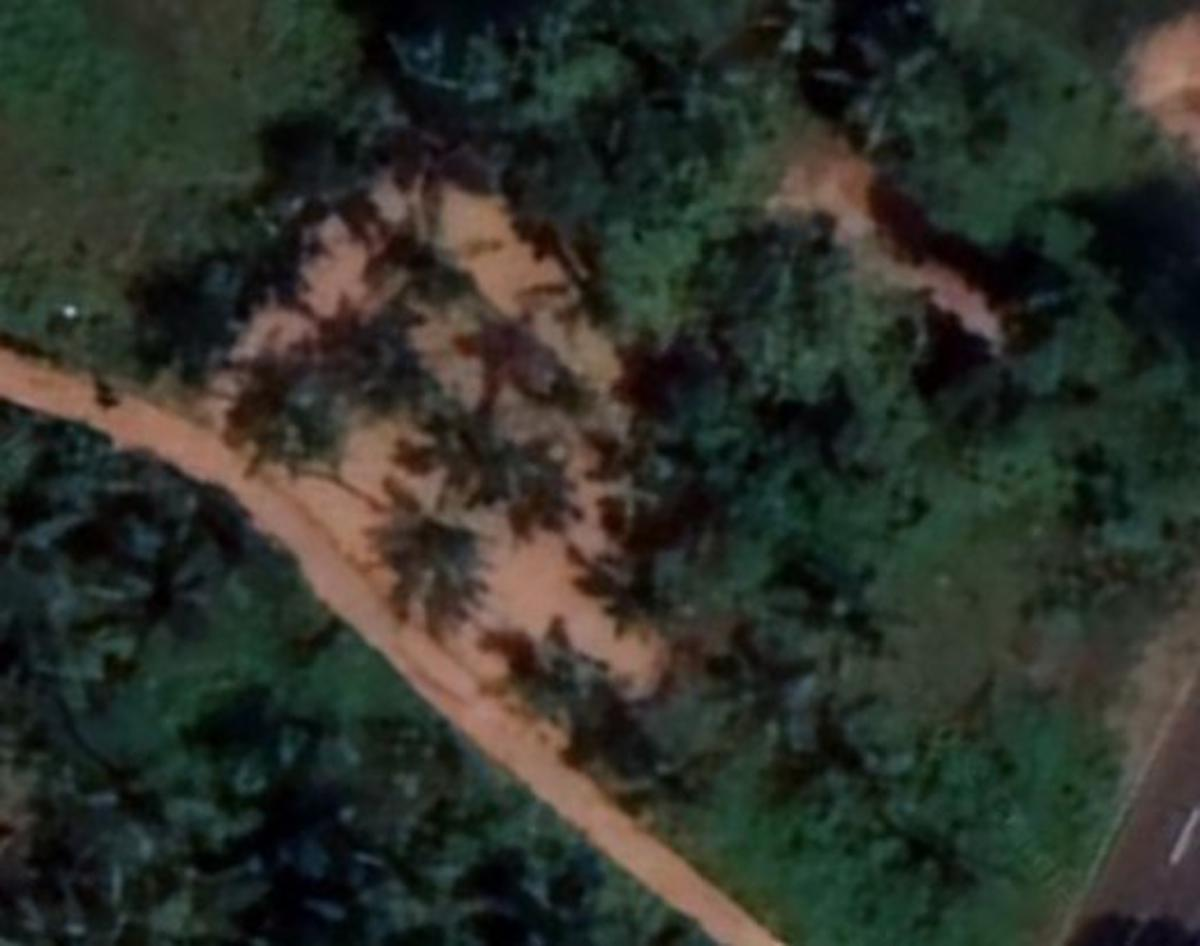coconut: (819, 23, 927, 140), (96, 528, 221, 627), (373, 512, 489, 606), (246, 366, 346, 470), (466, 424, 567, 519)
